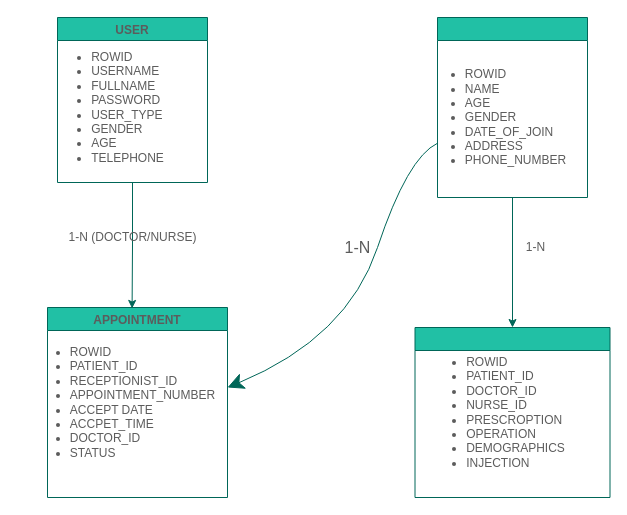
The diagram is 627 pixels wide and 515 high, and some of its shapes have lost their labels. Here are the shapes that lost their labels. From the top down, the box of each, then its label:
(436, 16, 588, 198): PATIENT
(414, 326, 610, 498): MEDICAL_RECORD
